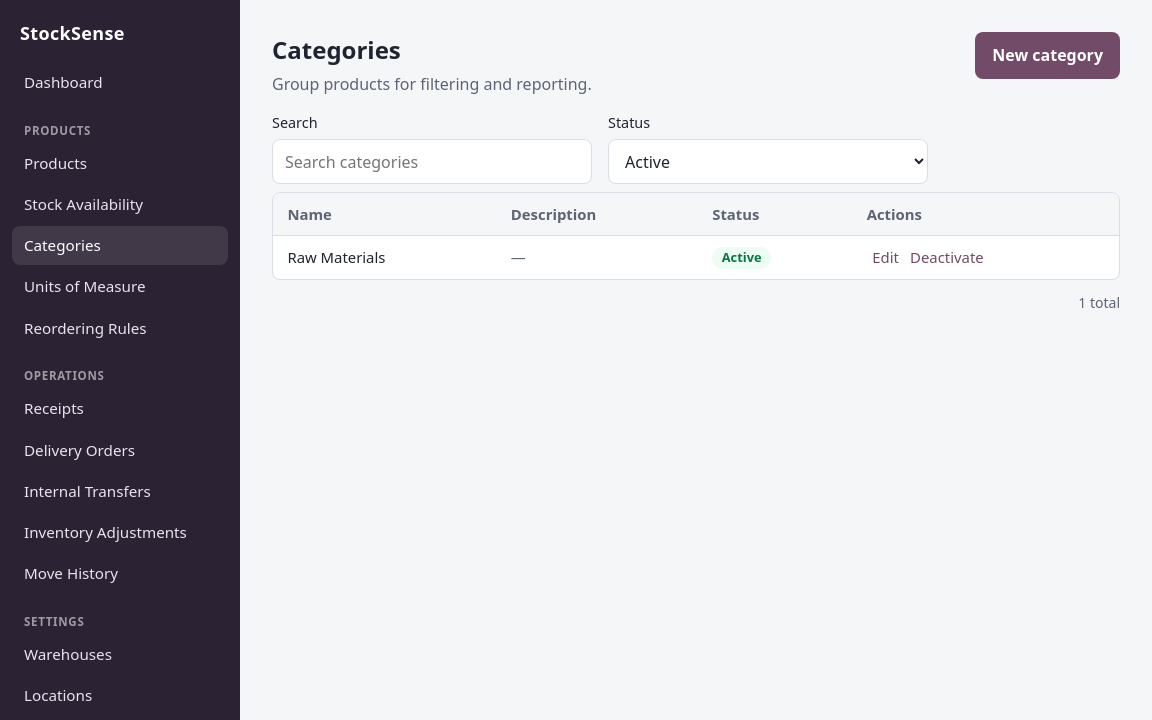
Scenario: categories › creates a category and reloads the list
This screenshot has width=1152, height=720.
Click the button "New category": (1048, 55) top-left (975, 32), bottom-right (1120, 79)
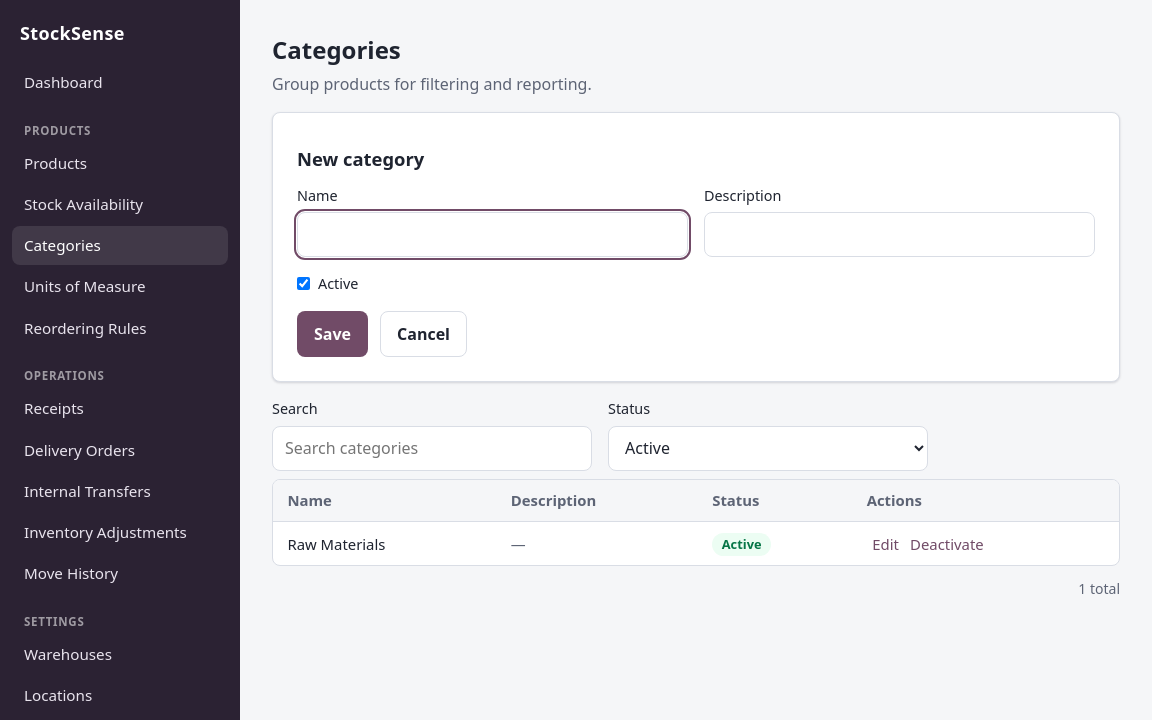
Click the button "Save": (332, 334) top-left (297, 311), bottom-right (368, 357)
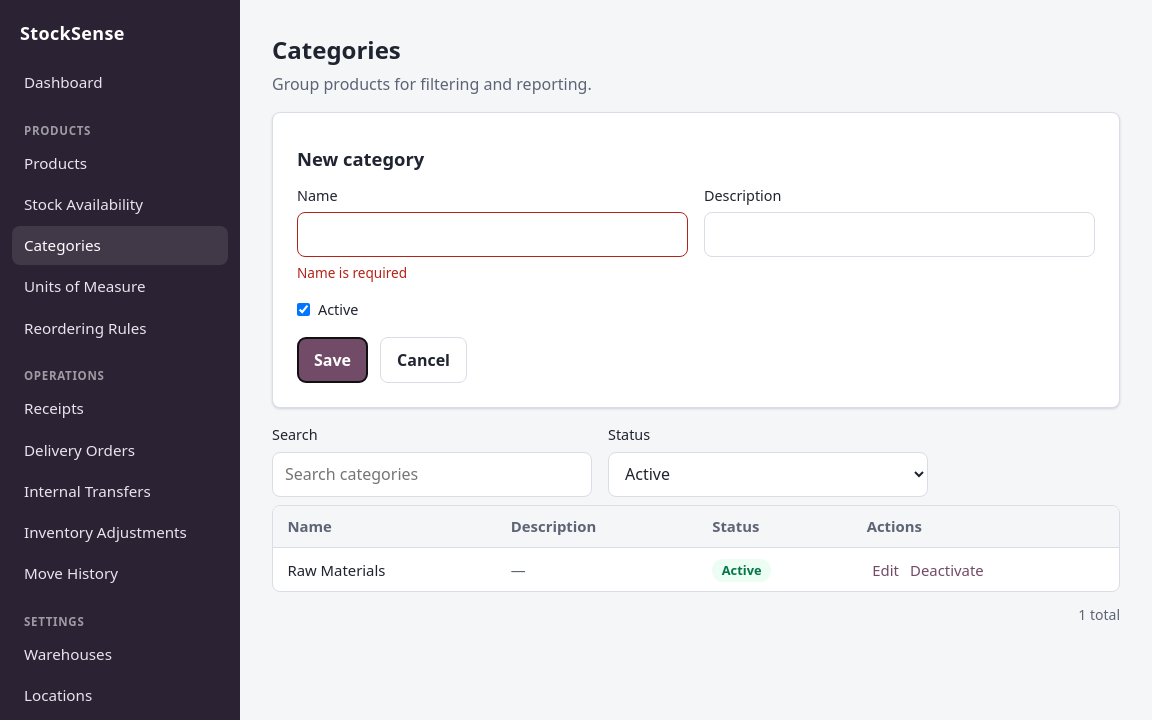
Check: the text "Name is required" is shown, box top-left (297, 263), bottom-right (407, 282)
In the field labelled "Name": (492, 234) top-left (297, 212), bottom-right (688, 257), type "Packaging"
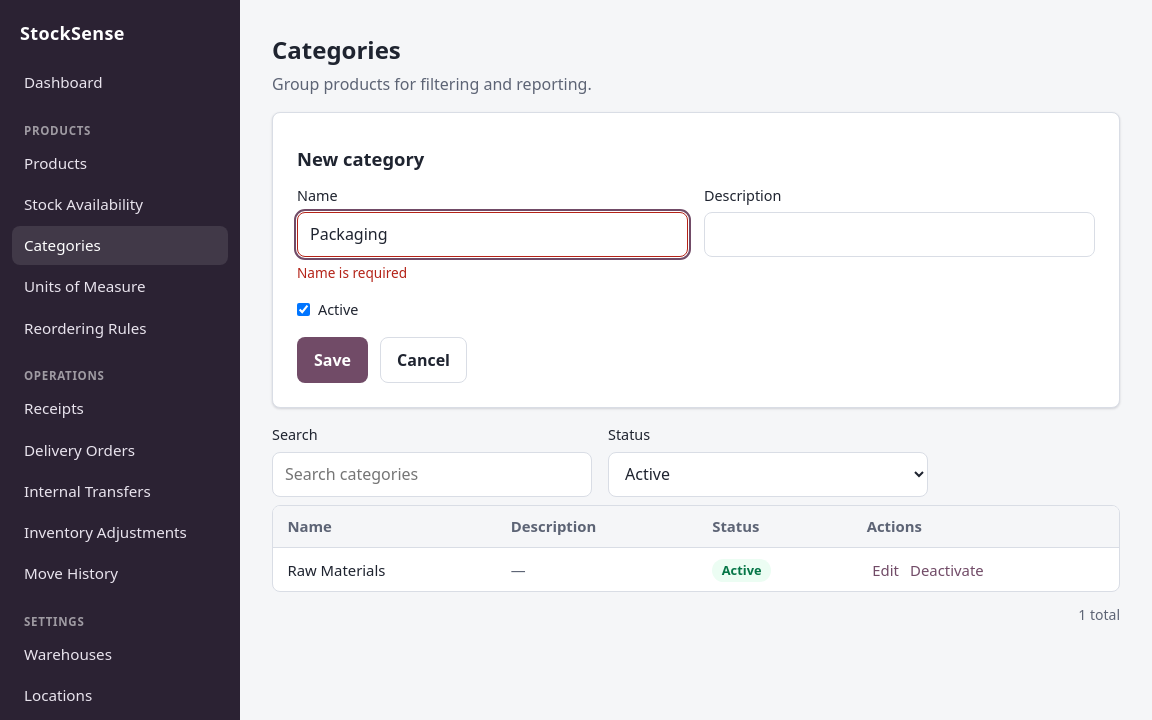
Click the button "Save": (332, 360) top-left (297, 337), bottom-right (368, 383)
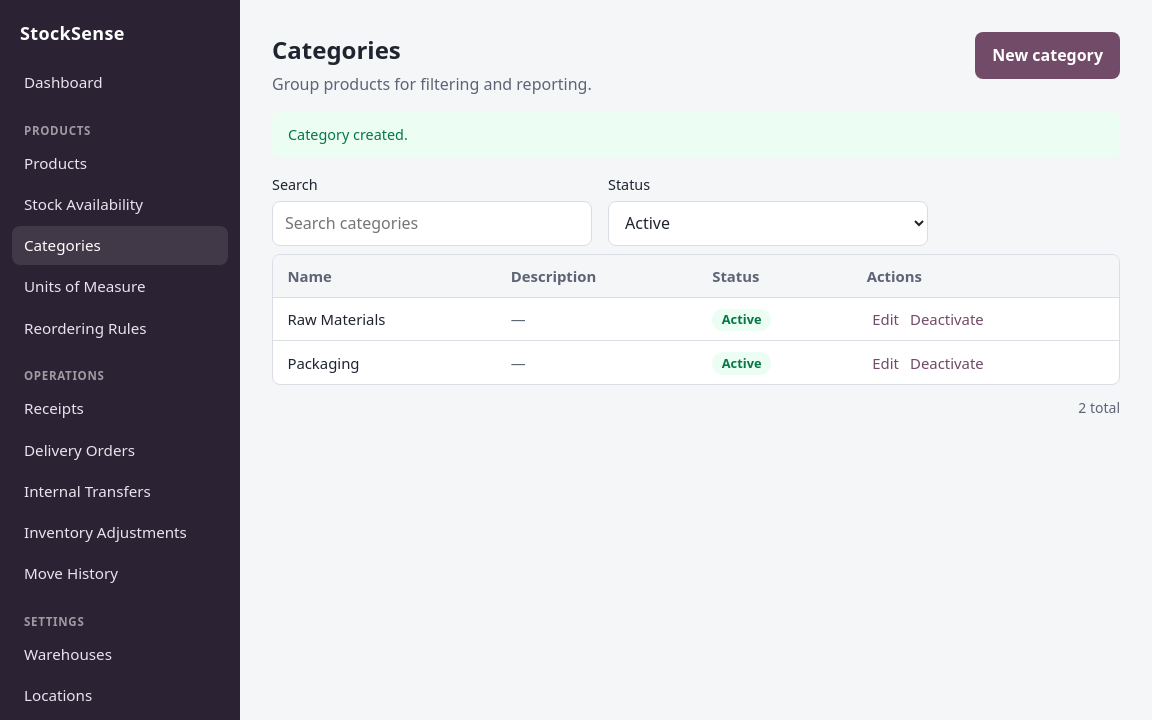
Check: the text "Category created." is shown, box top-left (272, 112), bottom-right (1120, 158)
Check: the cell "Packaging" is shown, box top-left (273, 341), bottom-right (496, 384)
